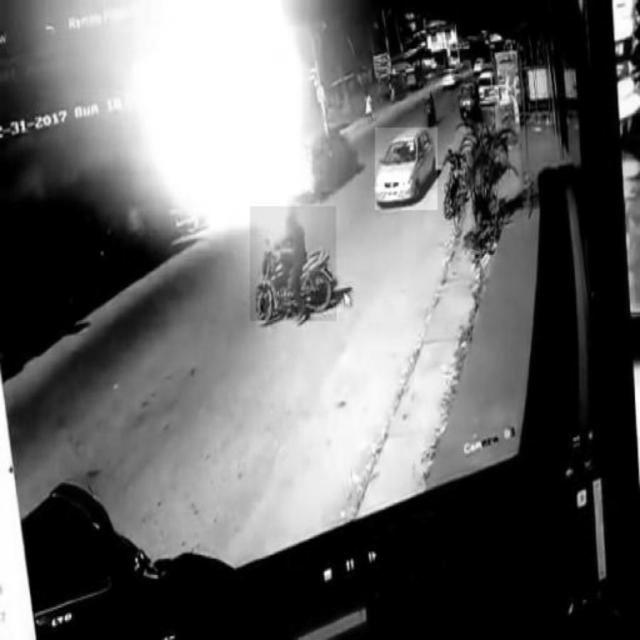vehicle: (250, 207, 336, 321), (375, 127, 437, 209)
